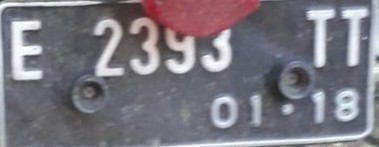plate: (2, 2, 374, 139)
